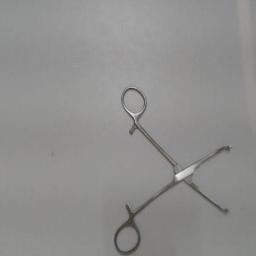Allis Tissue Forceps: (112, 78, 234, 256)
